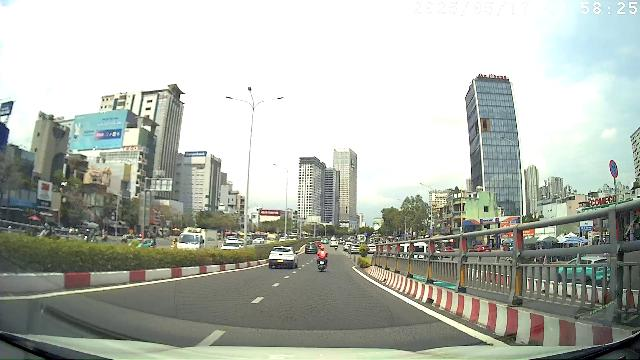134-het-han-che-toc-do-toi-da: (358, 234, 367, 242)
